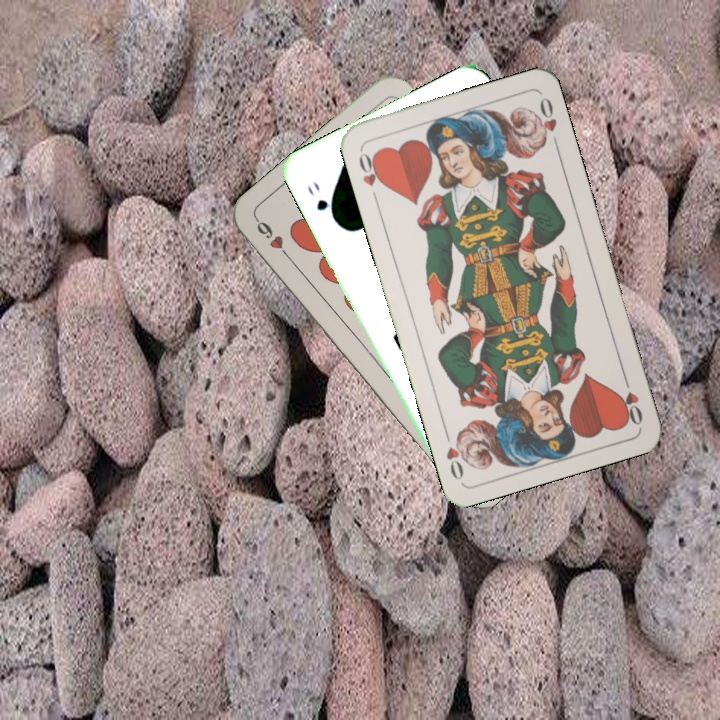GO: (302, 178, 339, 225)
H9: (251, 215, 295, 264)
HO: (354, 146, 387, 204), (616, 370, 645, 428)
